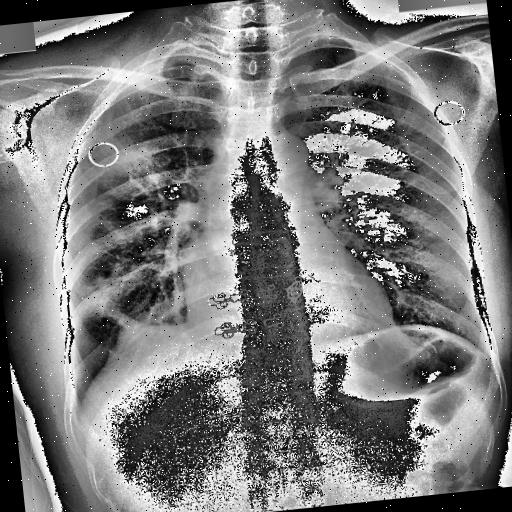11- Pleural thickening: (116, 46, 232, 96), (114, 50, 229, 92)
6- Infiltration: (84, 211, 150, 318), (96, 131, 174, 205)
7- Lung Opacity: (93, 142, 175, 208), (96, 144, 170, 202), (84, 262, 146, 330), (70, 266, 138, 324)
9- Other lesion: (106, 313, 146, 346)
